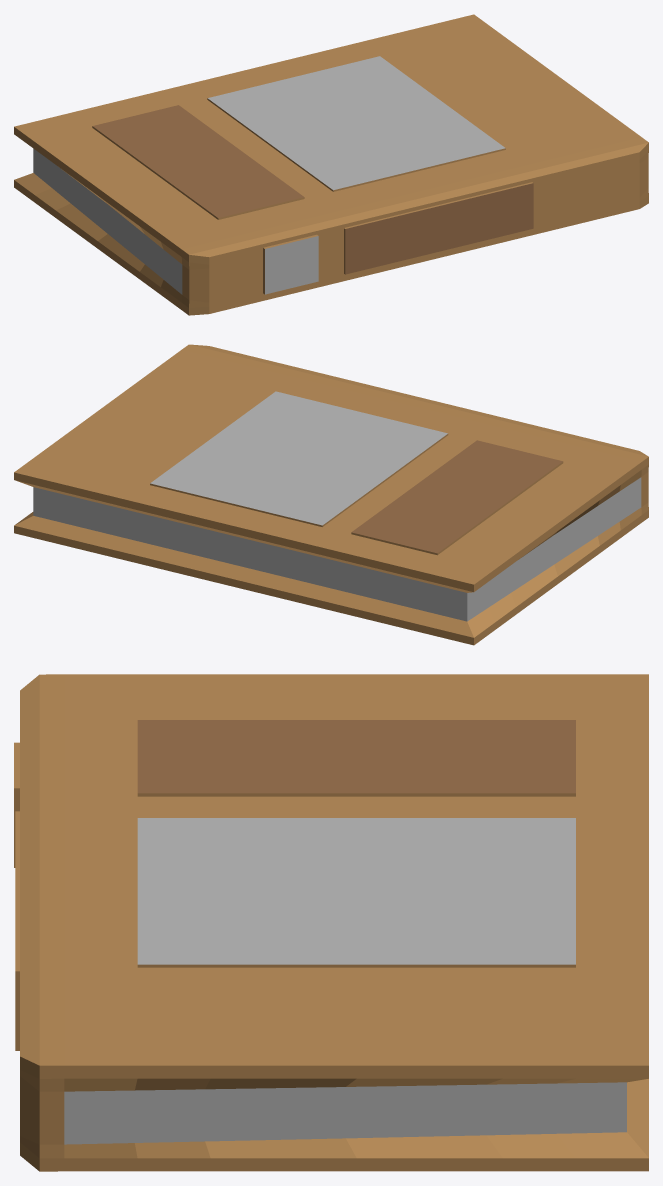
The model's file is Libro2.fbx.
3 renders of one model, top to bottom at view 1: azimuth 30°, elevation 25°; view 2: azimuth 150°, elevation 25°; view 3: azimuth 270°, elevation 25°, orthographic. The views are drawn at different scales.
Visible parts, largest first — view 1: Libro1; view 2: Libro1; view 3: Libro1.
Boxes of the visible parts, x1,y1,x2,y2 form: Libro1: [14, 14, 648, 315]; Libro1: [14, 344, 648, 645]; Libro1: [14, 674, 648, 1171].
Size of the model in its own units: 202 by 26.28 by 138.
